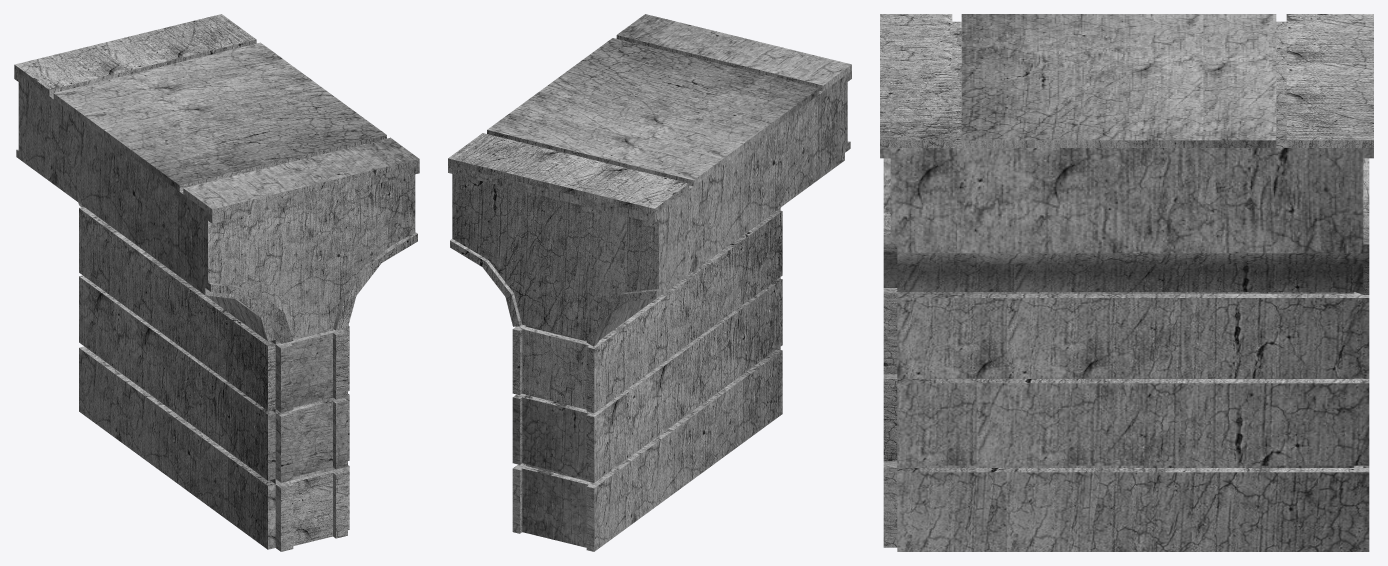
File: aquaduct.obj
The picture shows the model from 3 angles, left to right: view 1: azimuth 30°, elevation 25°; view 2: azimuth 150°, elevation 25°; view 3: azimuth 270°, elevation 25°; orthographic projection. The views are drawn at different scales.
Visible parts, largest first — view 1: pCube1; view 2: pCube1; view 3: pCube1.
Part boxes in pixels (x1=…): pCube1: x1=14, y1=14, x2=419, y2=551; pCube1: x1=448, y1=14, x2=851, y2=551; pCube1: x1=880, y1=14, x2=1373, y2=551.
Size of the model in its own units: 6.24 by 10.37 by 10.31.
